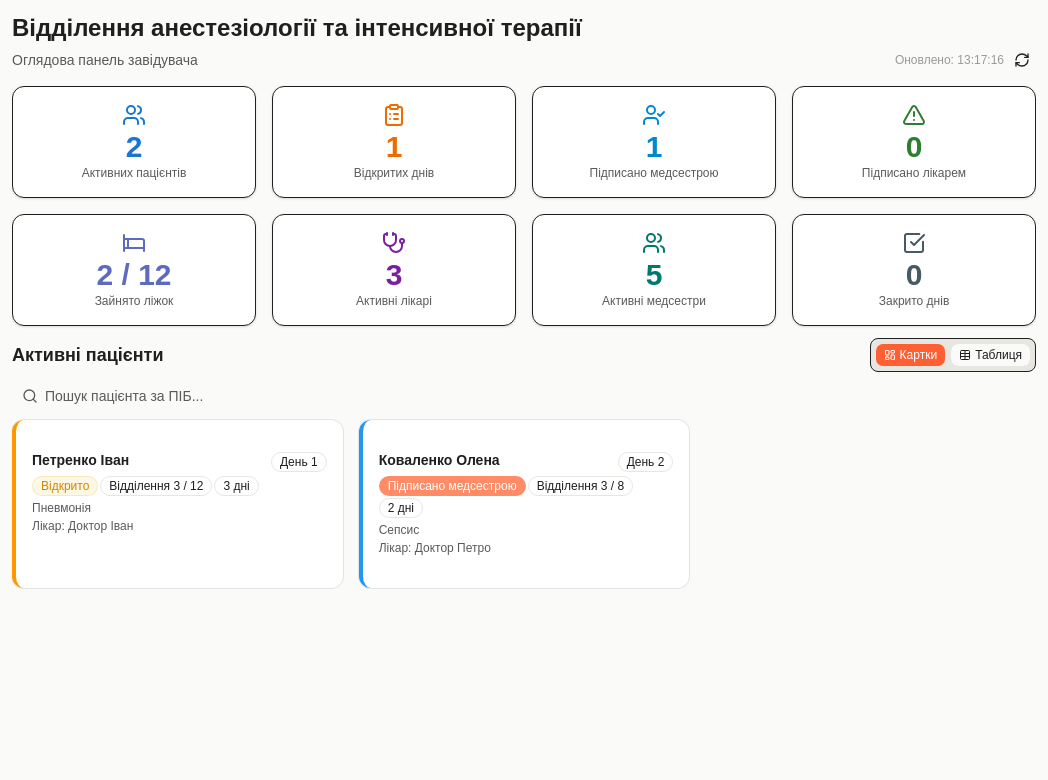
Test: DepartmentDashboardPage › shows no results message when search has no matches
Check: the text "Петренко Іван" is shown, box [32, 452, 129, 470]
Type "NonExistent" into the field with placeholder "Пошук пацієнта за ПІБ..." at (524, 396), box [12, 380, 1036, 412]
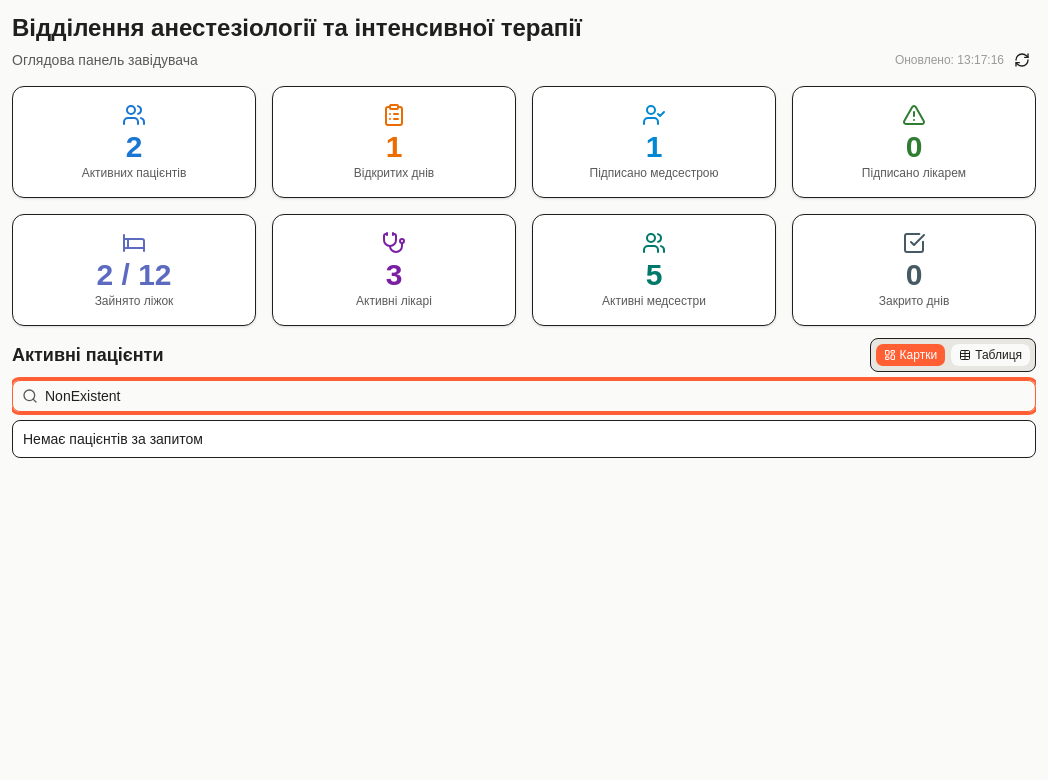
Check: the text "Немає пацієнтів за запитом" is shown, box [12, 420, 1036, 458]
